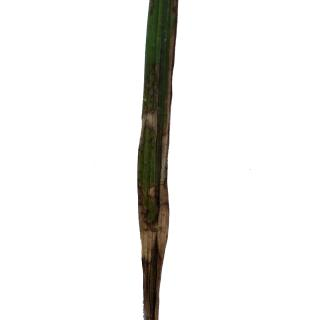Hawar-Daun: (141, 191, 167, 320), (147, 60, 170, 142)
